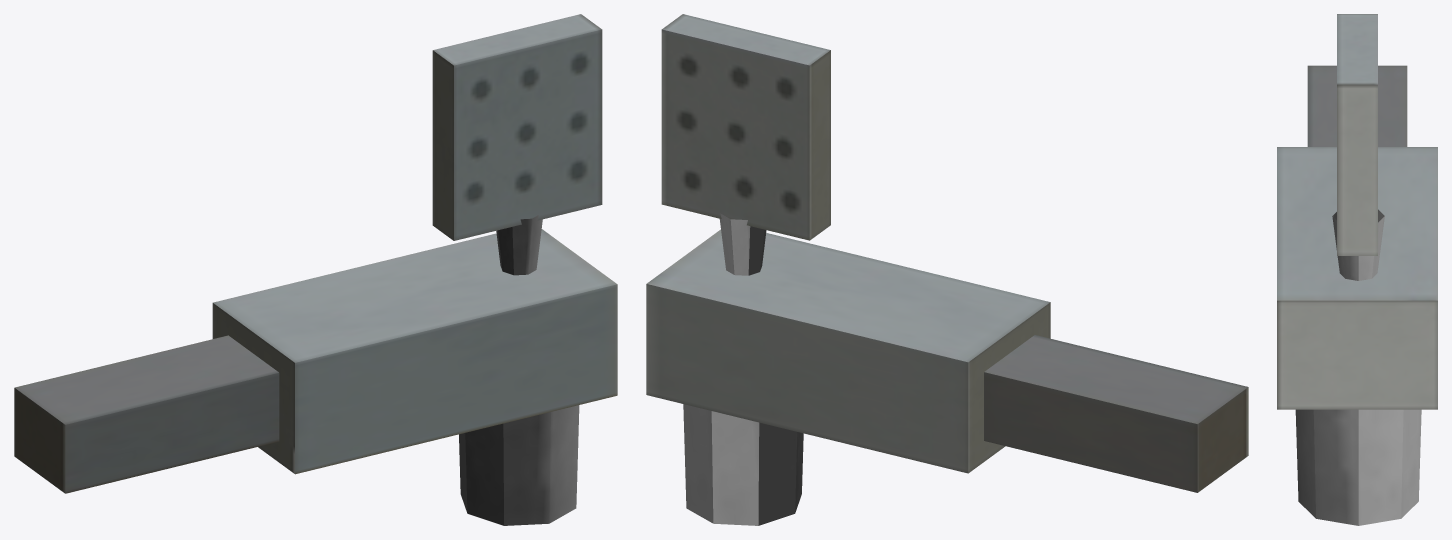
The model's file is substation_ht_1005_06+.obj.
3 renders of one model, left to right at view 1: azimuth 30°, elevation 25°; view 2: azimuth 150°, elevation 25°; view 3: azimuth 270°, elevation 25°, orthographic. The views are drawn at different scales.
Visible parts, largest first — view 1: substation_ht_1005_06_; view 2: substation_ht_1005_06_; view 3: substation_ht_1005_06_.
Boxes of the visible parts, bbox=[...] form: substation_ht_1005_06_: bbox=[14, 14, 617, 525]; substation_ht_1005_06_: bbox=[646, 14, 1248, 525]; substation_ht_1005_06_: bbox=[1277, 14, 1437, 525].
Size of the model in its own units: 6.14 by 4.92 by 1.59.
Materials: 2 (2 with a texture image).
